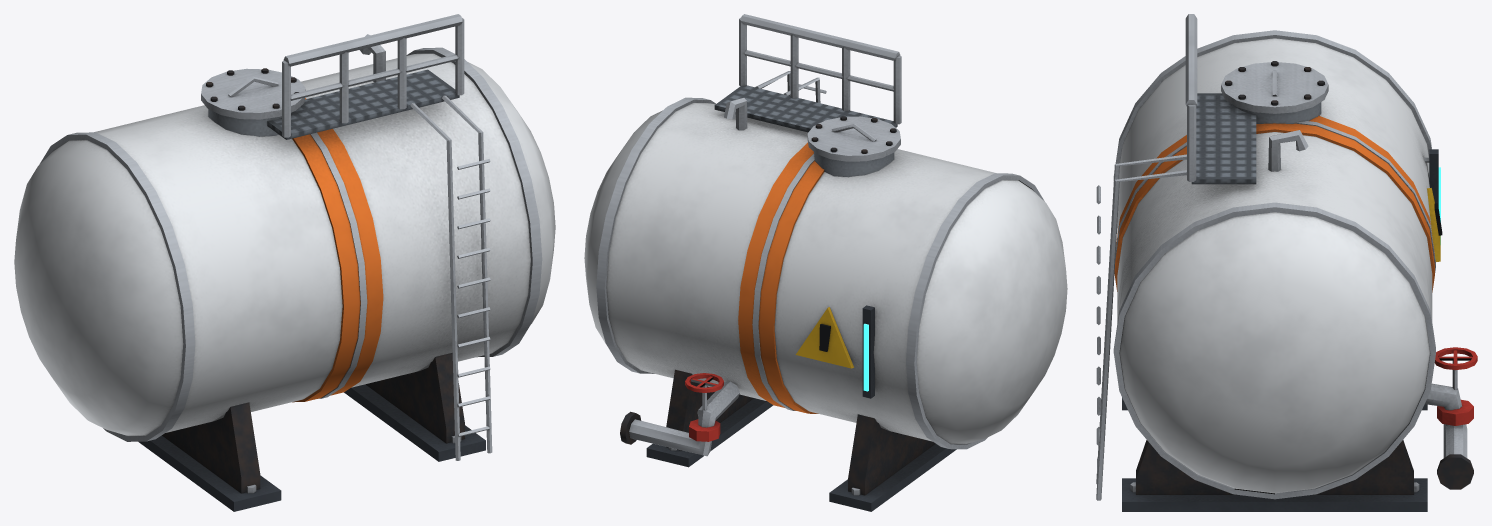
File: tanque_combustible_industrial.fbx
3 views of the same model, side by side, from view 1: azimuth 30°, elevation 25°; view 2: azimuth 150°, elevation 25°; view 3: azimuth 270°, elevation 25° (orthographic). The views are drawn at different scales.
Parts seen in each view (by area): view 1: tanque_combustible_industrial; view 2: tanque_combustible_industrial; view 3: tanque_combustible_industrial.
Boxes of the visible parts, left/top/right/bottom form: tanque_combustible_industrial: left=14, top=14, right=555, bottom=511; tanque_combustible_industrial: left=584, top=14, right=1067, bottom=511; tanque_combustible_industrial: left=1096, top=14, right=1477, bottom=511.
Bounding box in the file's own units: 6 × 4.95 × 4.12.
Materials: 2 (2 with a texture image).
